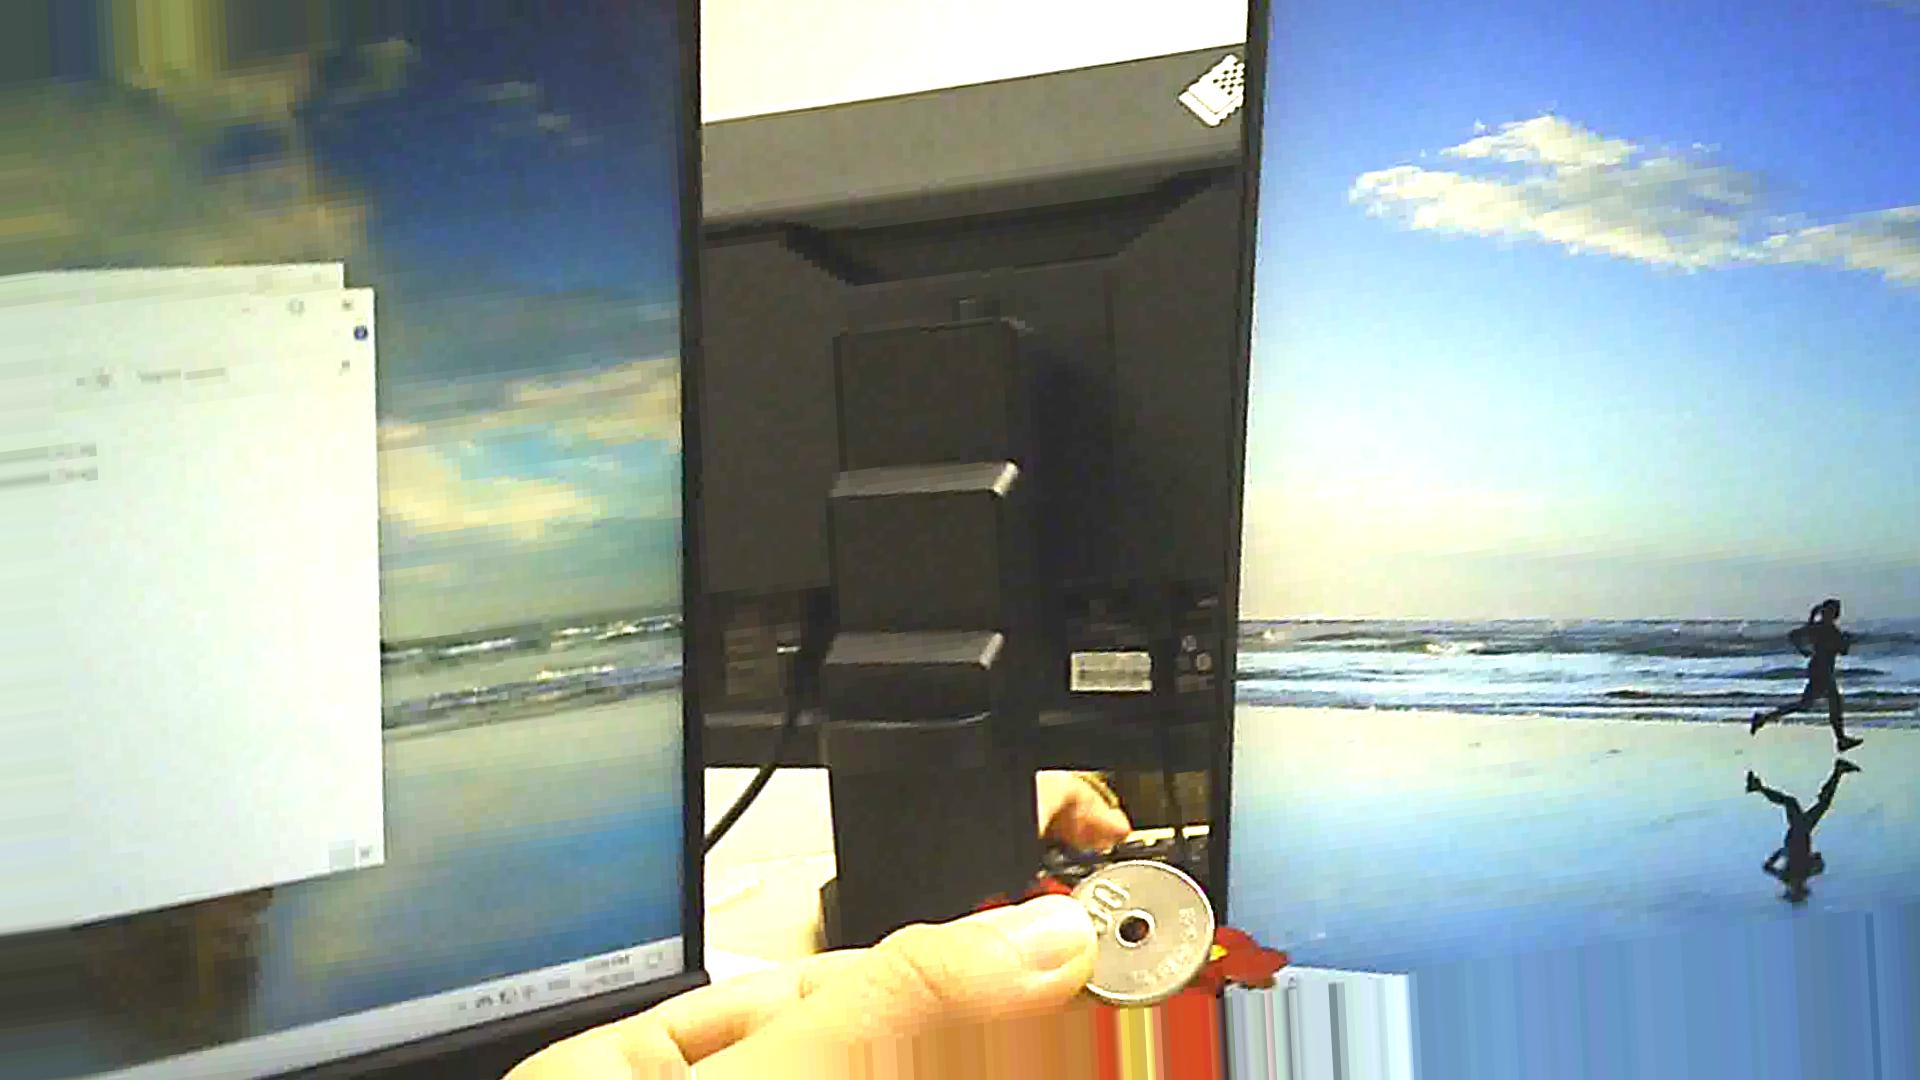50 Yen: (1059, 853, 1222, 1011)
